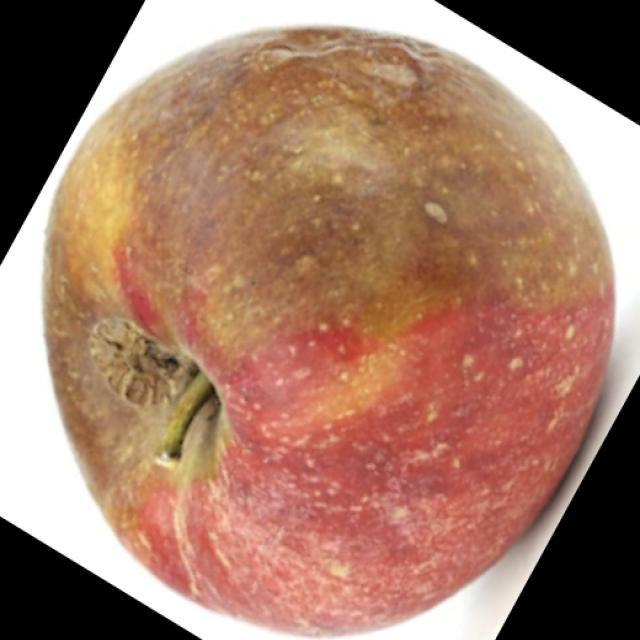Rotten: (60, 45, 600, 628)
